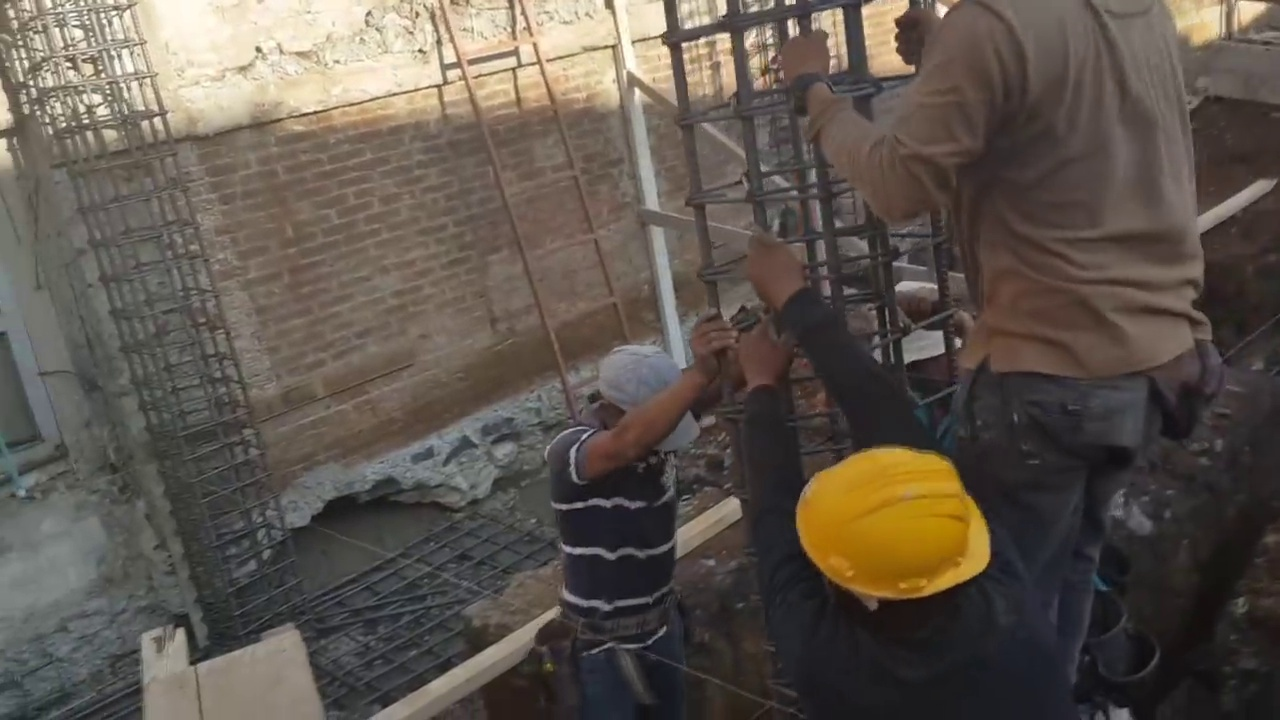helmet: (800, 438, 983, 617)
helmet-off: (580, 345, 730, 459), (862, 275, 982, 410)
helmet-on: (782, 435, 1005, 658)
person: (760, 0, 1218, 656), (665, 247, 1005, 718), (542, 317, 740, 718)
